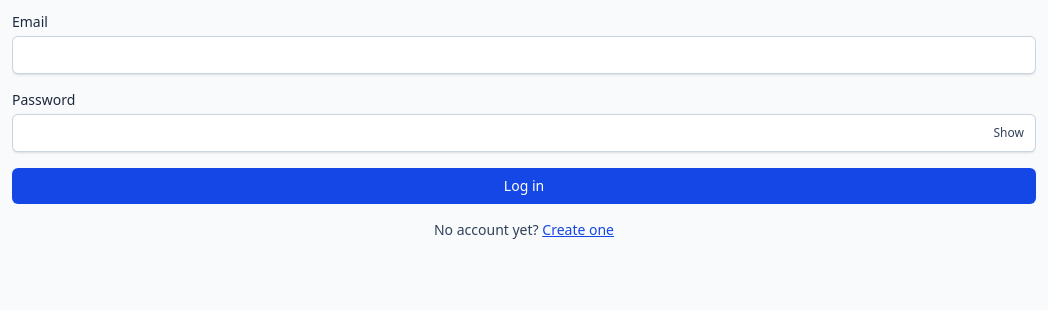
LoginForm › shows invalid_credentials on the form and does not redirect (AC-ERR-4)
Type "ada@example.com" into the field labelled "Email". click: (524,55)
box: 12,36 -> 1036,74
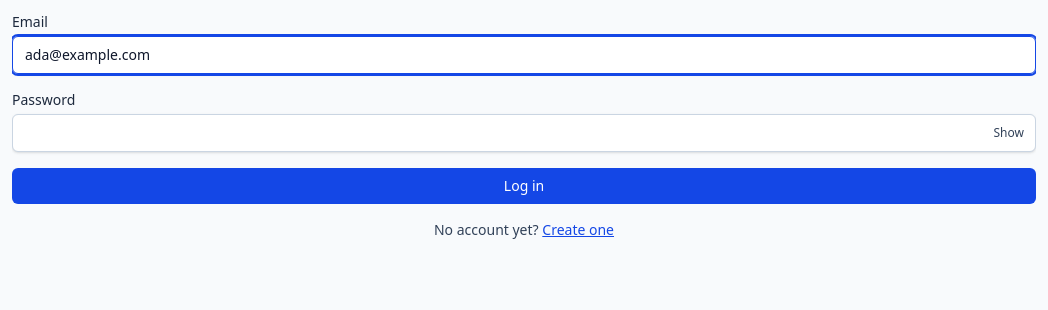
Type "wrongpass1" into the password field labelled "Password". click: (524,133)
box: 12,114 -> 1036,152
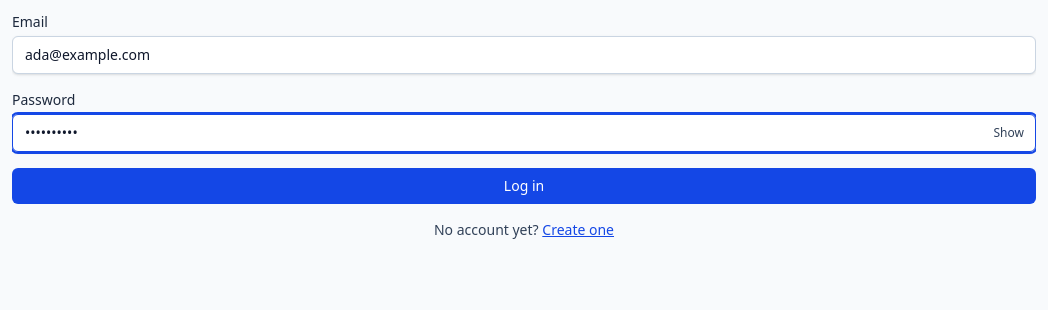
Click the button "Log in". click: (524,186)
box: 12,168 -> 1036,204
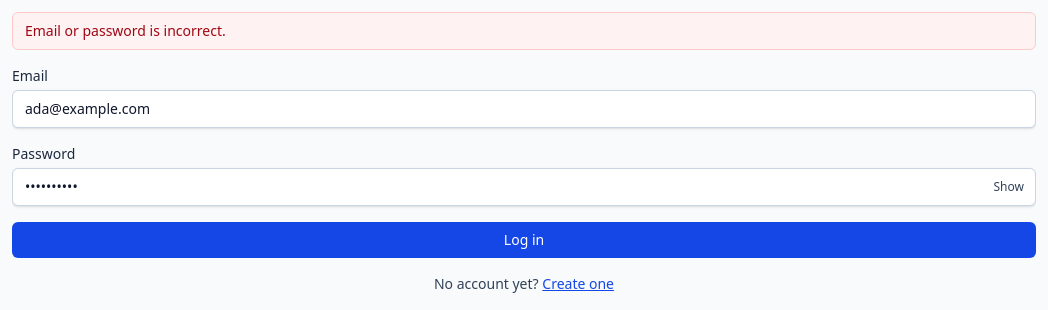
Now the message reads "Email or password is incorrect.", box 25,21 -> 226,40
